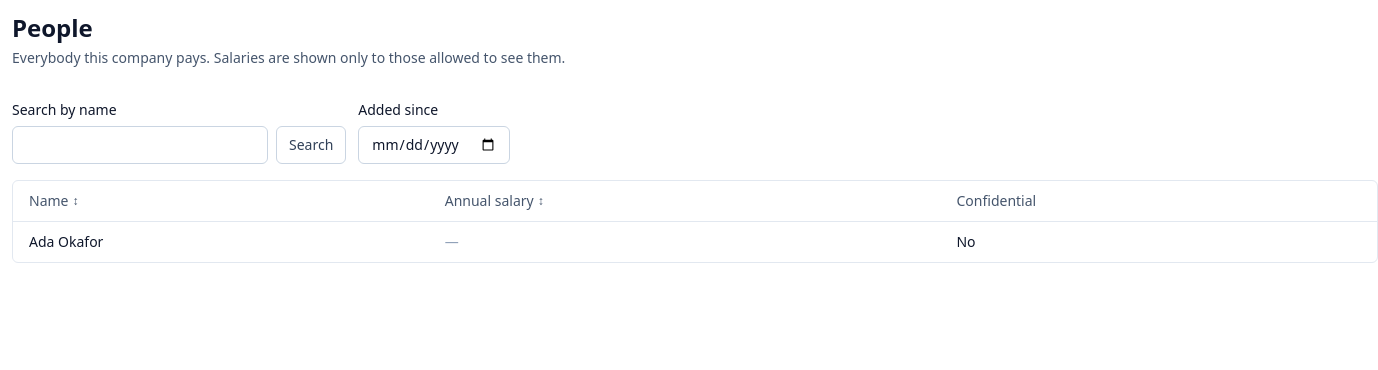
EmployeesPage › the three states › shows a refused column as a refusal rather than as a broken list
This screenshot has width=1378, height=370.
Check: the text "Ada Okafor" is shown, box [13, 222, 429, 262]
Click the button "Annual salary ↕" at (494, 201), box [445, 191, 544, 211]
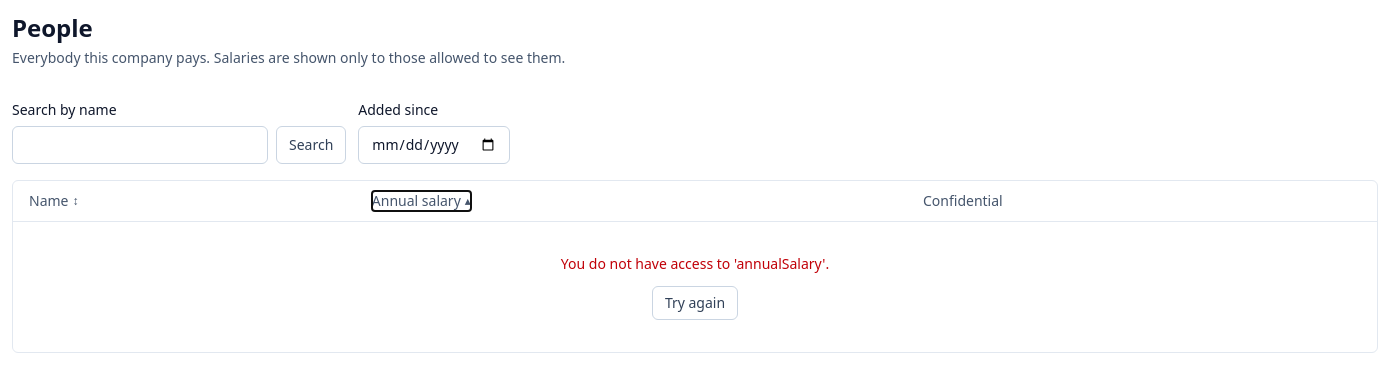
Check: the message shows "annualSalary", box [561, 254, 829, 273]
